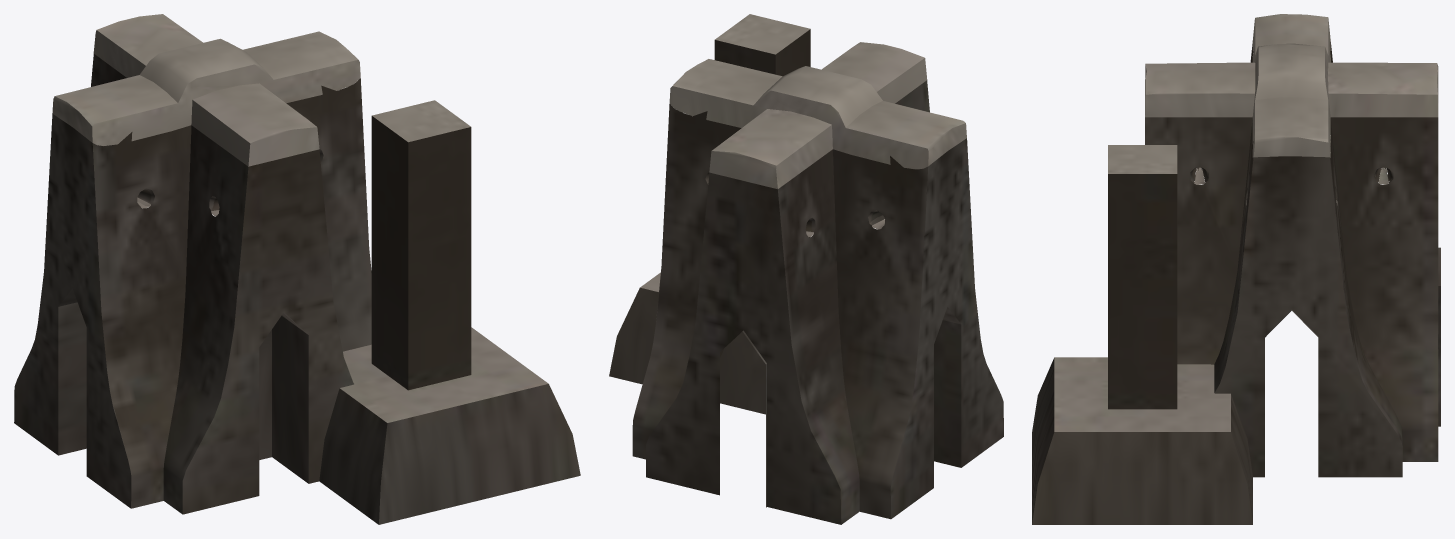
Rendered from stone-wall-nesw-fill.glb.
3 views of the same model, side by side, from view 1: azimuth 30°, elevation 25°; view 2: azimuth 150°, elevation 25°; view 3: azimuth 270°, elevation 25° (orthographic). The views are drawn at different scales.
Parts seen in each view (by area): view 1: body; view 2: body; view 3: body.
Boxes of the visible parts, x1,y1,x2,y2 form: body: (14, 14, 580, 524); body: (609, 14, 1003, 524); body: (1032, 14, 1440, 524).
Size of the model in its own units: 1.36 by 1.32 by 1.37.
1 material, 1 textured.
